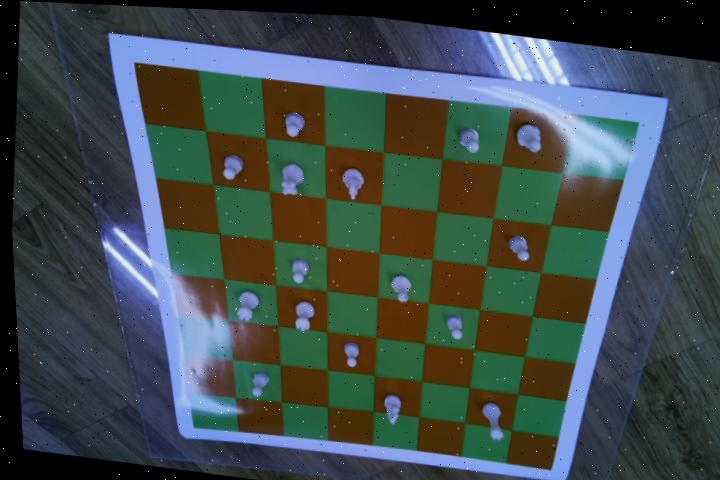chessboard-detect: (133, 60, 639, 465)
